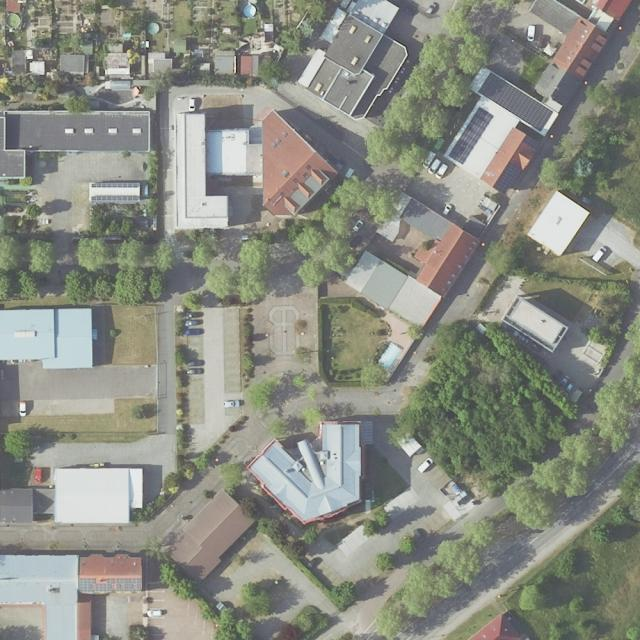PV: (477, 72, 554, 131), (79, 577, 141, 592), (494, 162, 521, 193), (91, 195, 138, 202), (91, 182, 139, 188)
